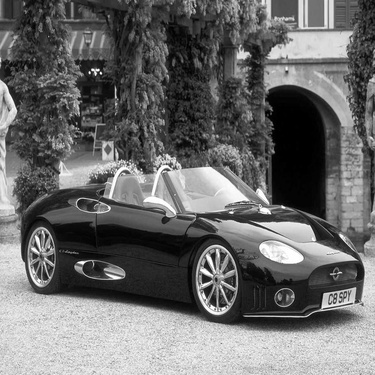car: (12, 150, 364, 324)
